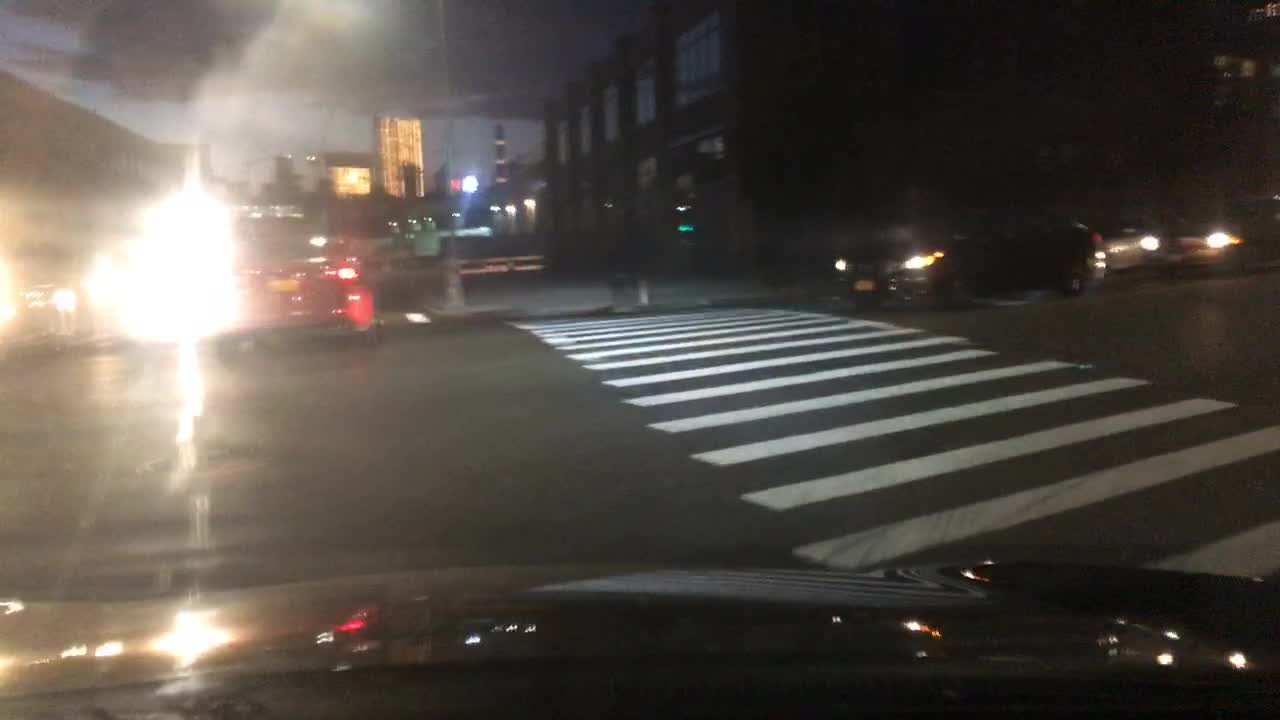car: (827, 168, 1104, 310), (195, 232, 378, 357), (1, 252, 95, 350), (1154, 207, 1252, 278), (1088, 218, 1161, 276), (381, 224, 443, 264)
